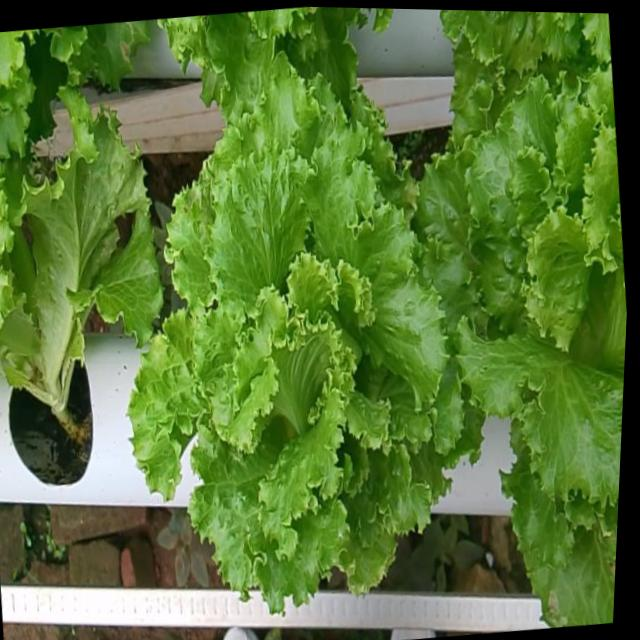Mature: (130, 88, 468, 630), (420, 88, 626, 526)
